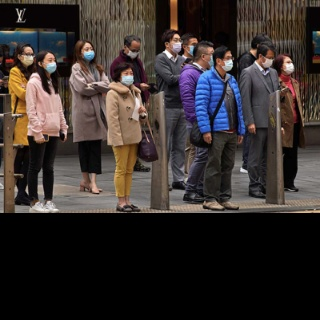with_mask: (21, 51, 35, 67), (82, 46, 96, 62), (44, 57, 57, 74), (121, 71, 135, 86), (170, 37, 183, 53), (222, 55, 234, 72), (262, 55, 275, 68), (283, 60, 295, 74), (127, 48, 140, 59), (206, 50, 214, 67)
